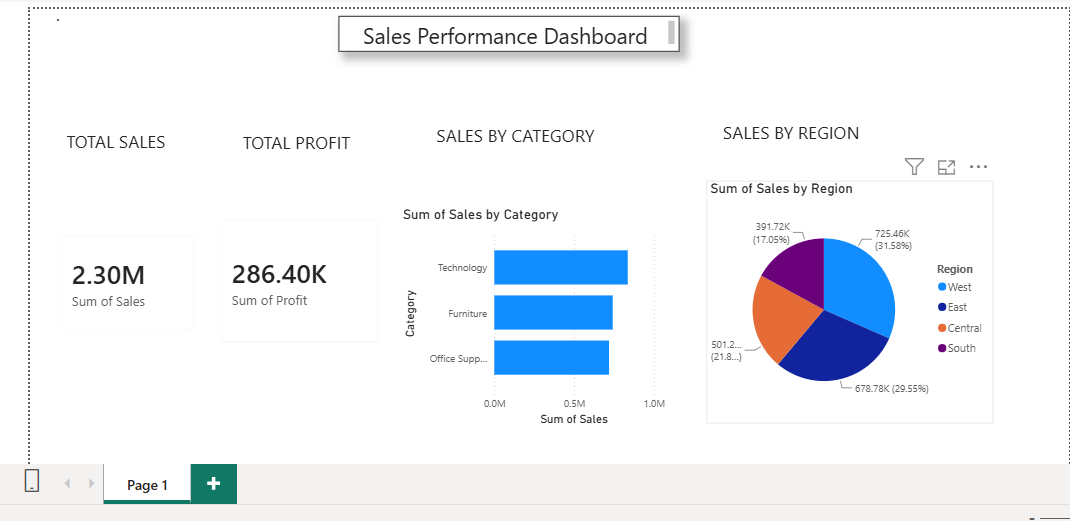

What the dashboard file says about the page in this screenshot:
{"tool":"powerbi","page":{"name":"Page 1","canvas":[1280,720],"ordinal":0},"visuals":[{"type":"cardVisual","fields":{"Data":["Sum(Sample - Superstore.Sales)"]},"box":[21.4,261.4,197.1,150],"z":0},{"type":"cardVisual","fields":{"Data":["Sum(Sample - Superstore.Profit)"]},"box":[218.6,242.9,227.1,184.3],"z":1000},{"type":"pieChart","fields":{"Y":["Sum(Sample - Superstore.Sales)"],"Category":["Sample - Superstore.Region"]},"box":[832.9,211.4,354.3,298.6],"z":2000},{"type":"clusteredBarChart","fields":{"Category":["Sample - Superstore.Category"],"Y":["Sum(Sample - Superstore.Sales)"]},"box":[454.3,242.9,332.9,274.3],"z":3000},{"type":"textbox","box":[380,8,420,44],"z":4000},{"type":"textbox","box":[40,142.9,140,60],"z":5000},{"type":"textbox","box":[257.1,144.3,151.4,67.1],"z":6000},{"type":"textbox","box":[848.6,131.4,204.3,51.4],"z":7001},{"type":"textbox","box":[495.7,135.7,217.1,42.9],"z":7002}]}

Visuals, with their boxes on the page's 1280x720 design canvas (x1, y1, x2, y2). These are canvas units, not pixel positions in the 1070x521 screenshot, which may show the page scaled, cropped or inside an application window:
cardVisual - Sum(Sample - Superstore.Sales): crop(21, 261, 218, 411)
cardVisual - Sum(Sample - Superstore.Profit): crop(219, 243, 446, 427)
pieChart - Sum(Sample - Superstore.Sales) x Sample - Superstore.Region: crop(833, 211, 1187, 510)
clusteredBarChart - Sample - Superstore.Category x Sum(Sample - Superstore.Sales): crop(454, 243, 787, 517)
textbox: crop(380, 8, 800, 52)
textbox: crop(40, 143, 180, 203)
textbox: crop(257, 144, 408, 211)
textbox: crop(849, 131, 1053, 183)
textbox: crop(496, 136, 713, 179)
